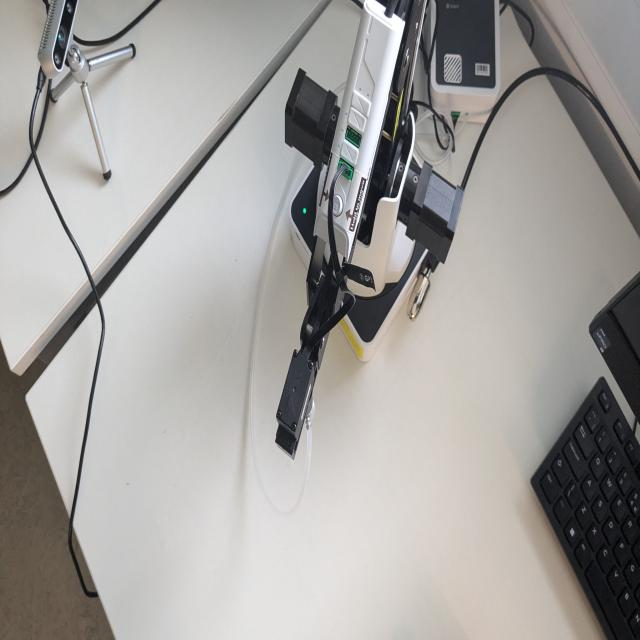Robot-end-effector-HF8z: (272, 344, 322, 464)
